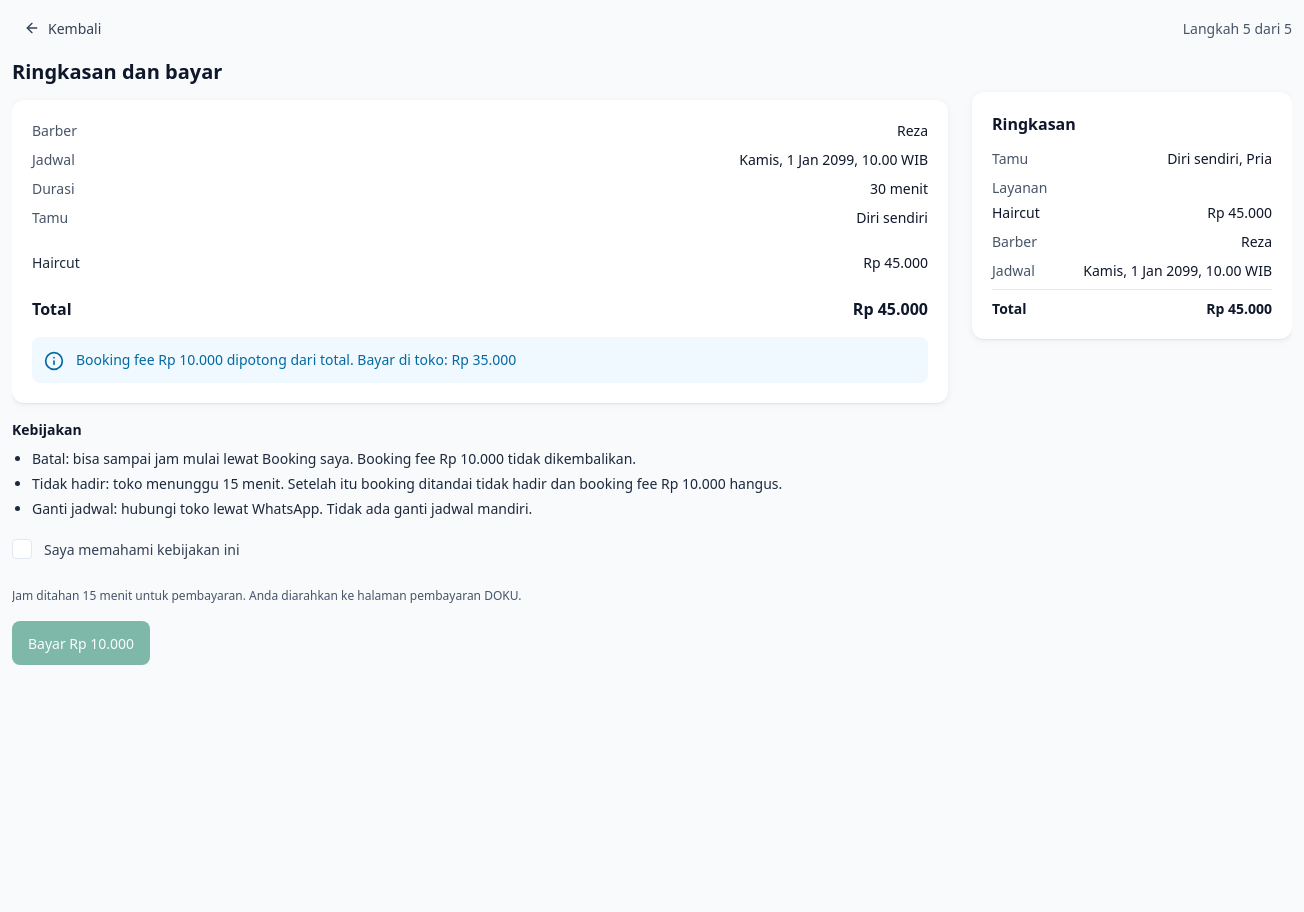
it: ringkasan dan bayar › FEE_CHANGED meminta konfirmasi ulang
Step 1. Click the checkbox named "Saya memahami kebijakan ini" → [22, 549], box [12,539,32,559]
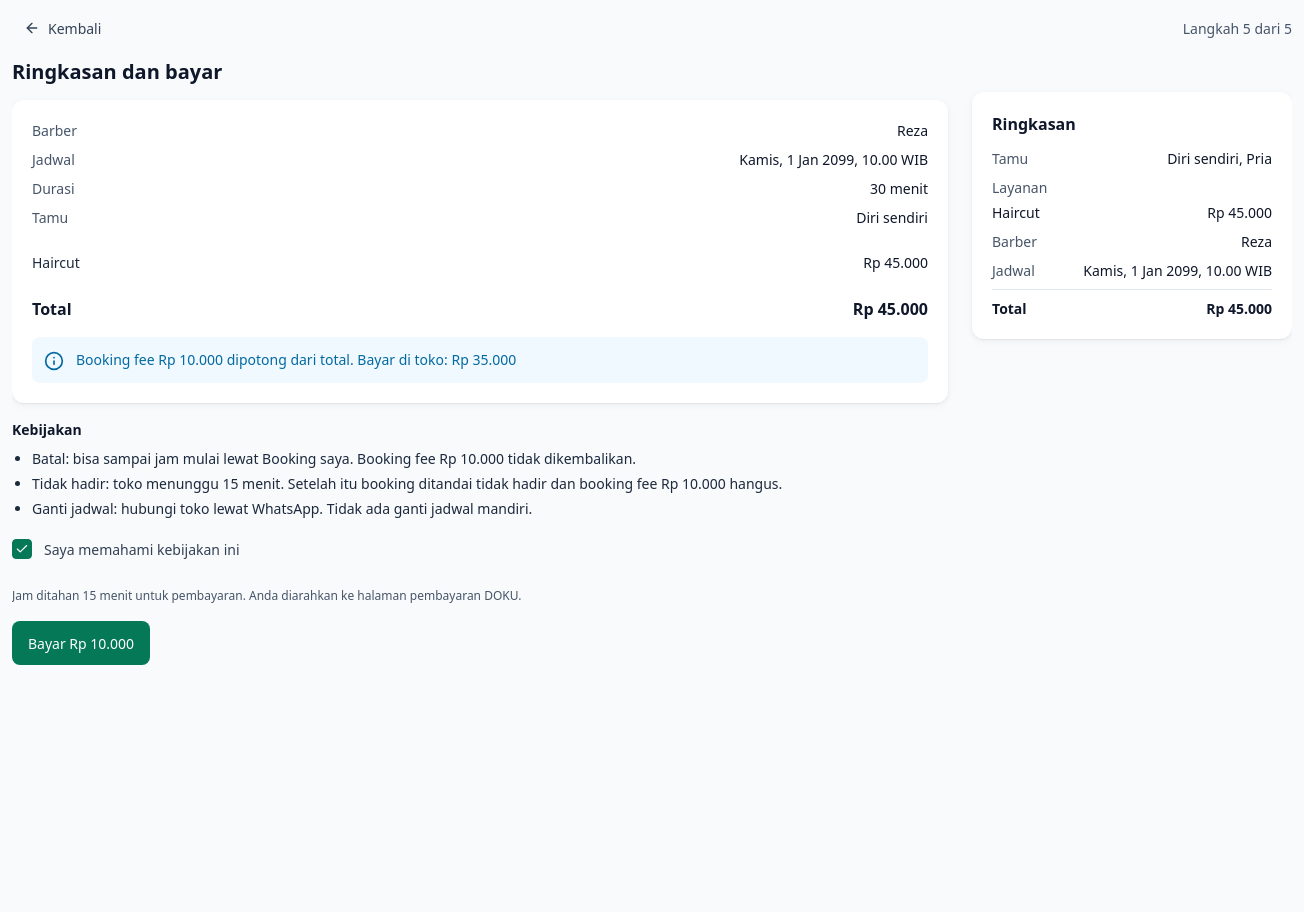
Step 2. Click the button "Bayar Rp 10.000" → [81, 643], box [12,621,150,665]
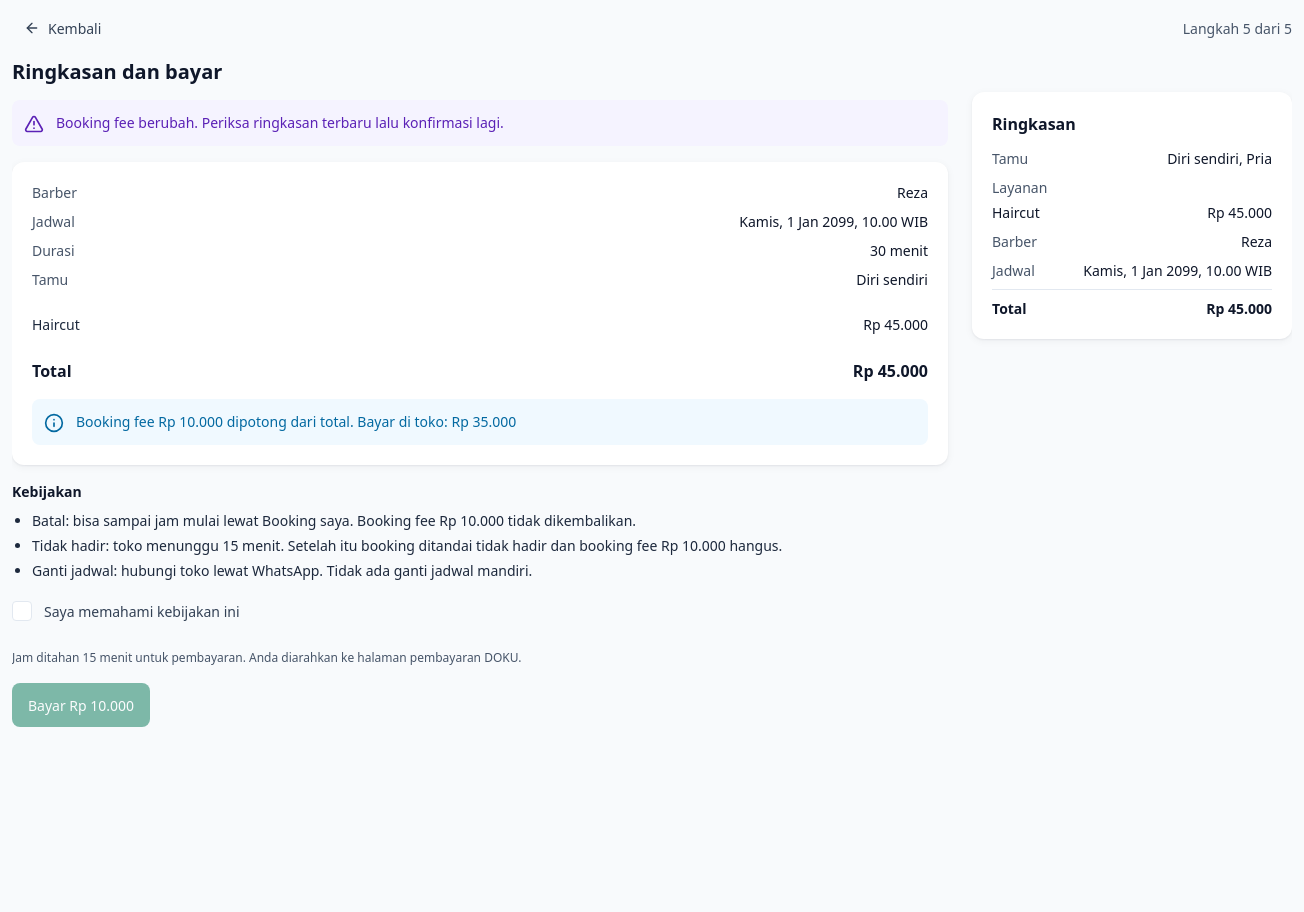
Expected: the text "Booking fee berubah" is shown, [56,113,504,132]
